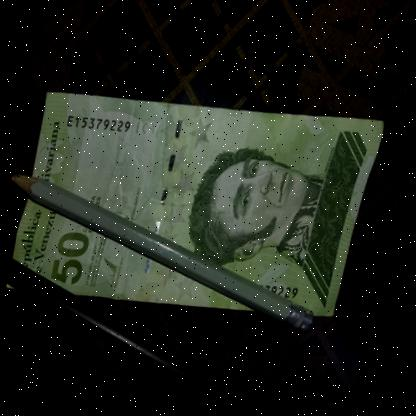vef_front: (0, 65, 391, 348)
